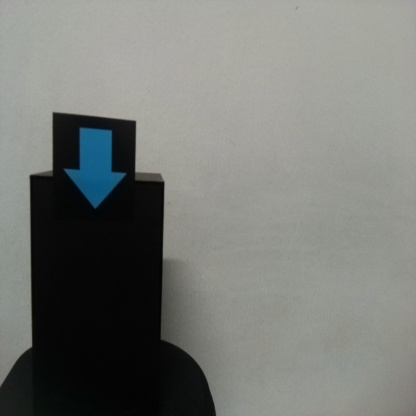id_2: (52, 113, 136, 241)
